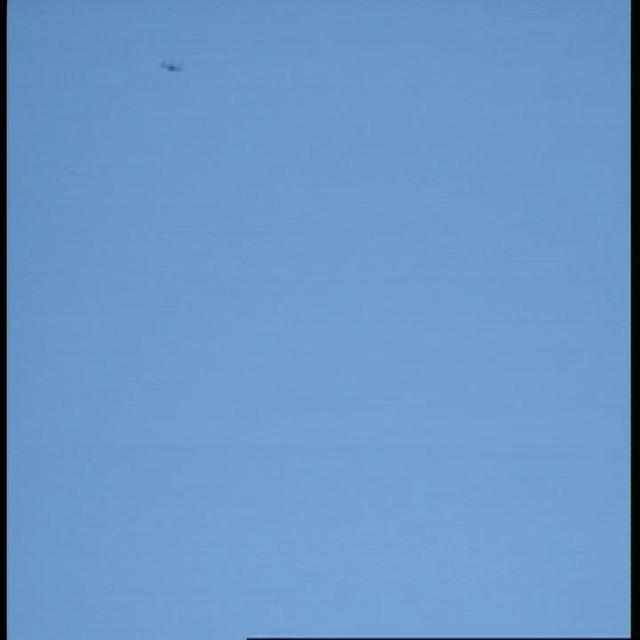drone: (152, 52, 193, 81)
